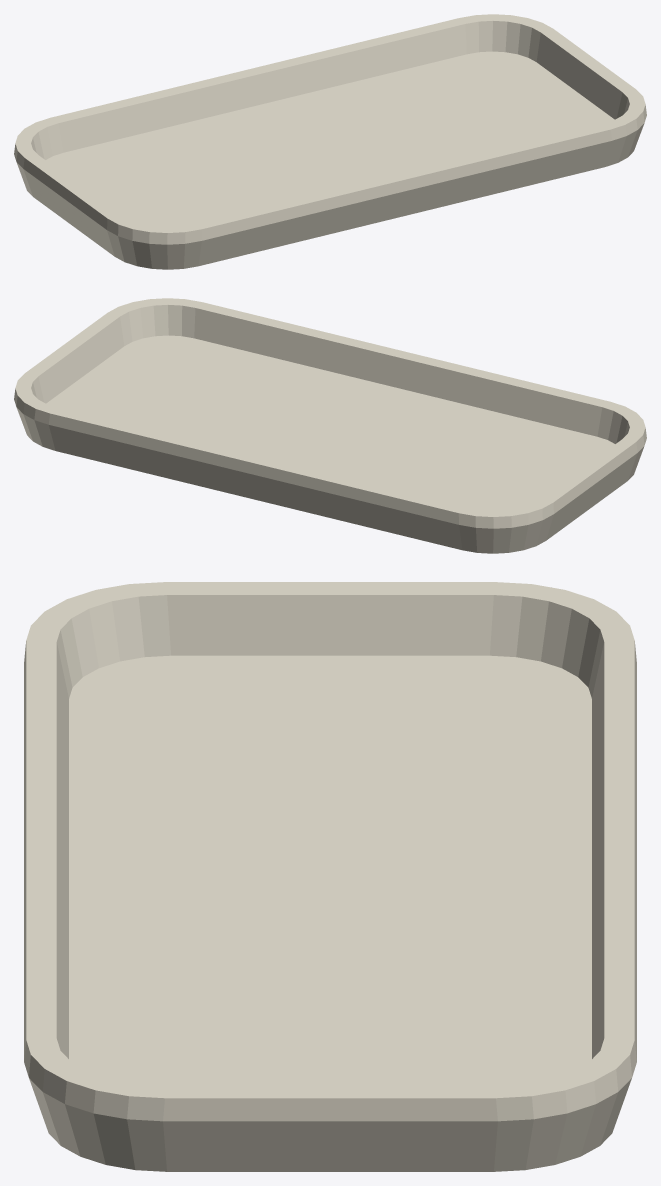
The model's file is bath-vanity-tray.glb.
3 renders of one model, top to bottom at view 1: azimuth 30°, elevation 25°; view 2: azimuth 150°, elevation 25°; view 3: azimuth 270°, elevation 25°, orthographic. The views are drawn at different scales.
Visible parts, largest first — view 1: bath-vanity-tray authored assembly; view 2: bath-vanity-tray authored assembly; view 3: bath-vanity-tray authored assembly.
Boxes of the visible parts, x1,y1,x2,y2 form: bath-vanity-tray authored assembly: (14,14,646,269); bath-vanity-tray authored assembly: (14,298,646,553); bath-vanity-tray authored assembly: (24,582,636,1171).
Size of the model in its own units: 0.3 by 0.022 by 0.15.
